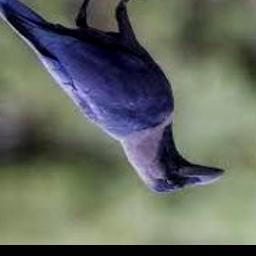Crow: (0, 0, 223, 194)
